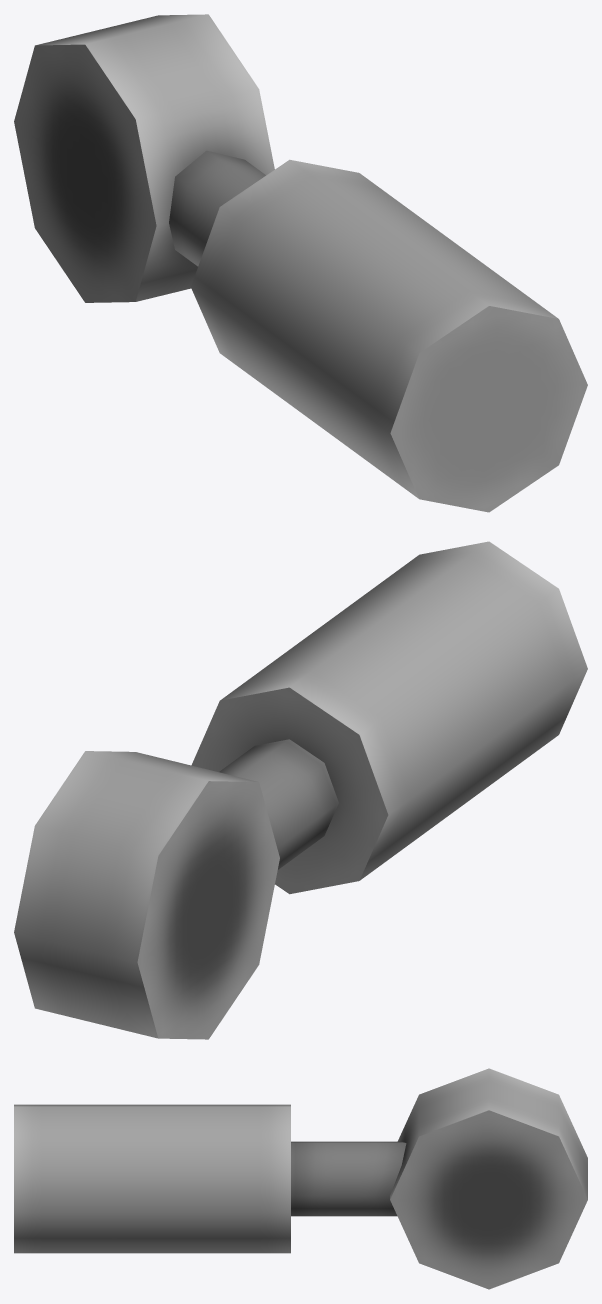
File: Tantares_Antenna_2_1_Base.obj
The picture shows the model from 3 angles, top to bottom: view 1: azimuth 30°, elevation 25°; view 2: azimuth 150°, elevation 25°; view 3: azimuth 270°, elevation 25°; orthographic projection. The views are drawn at different scales.
Parts seen in each view (by area): view 1: Tantares_Antenna_2_1_Base; view 2: Tantares_Antenna_2_1_Base; view 3: Tantares_Antenna_2_1_Base.
Boxes of the visible parts, x1,y1,x2,y2 form: Tantares_Antenna_2_1_Base: (14, 14, 587, 512); Tantares_Antenna_2_1_Base: (14, 541, 587, 1039); Tantares_Antenna_2_1_Base: (14, 1068, 587, 1289).
Bounding box in the file's own units: 0.05 × 0.0625 × 0.1812.
